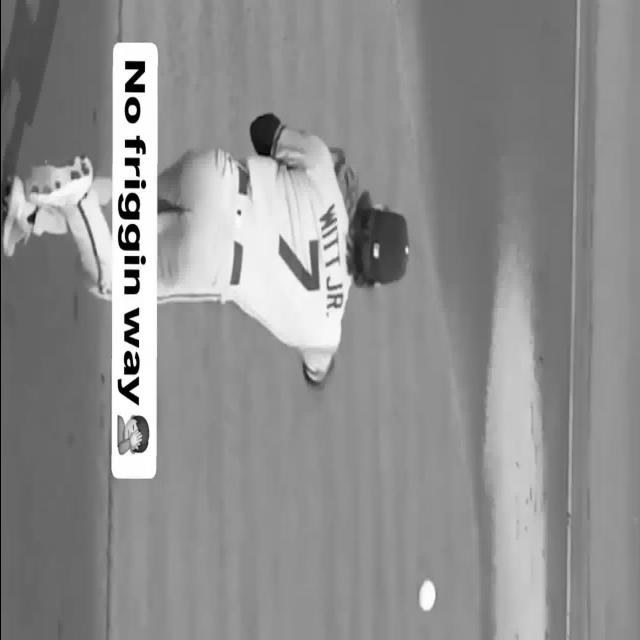baseball: (418, 580, 435, 611)
shoe: (24, 156, 92, 207), (1, 176, 36, 256)
